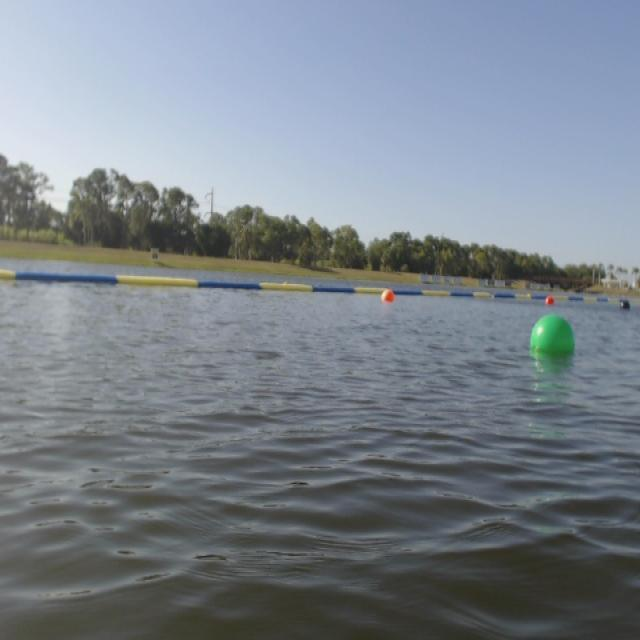Black_Buoy: (620, 298, 633, 310)
Green_Buoy: (534, 306, 570, 364)
Orange__Buoy: (382, 287, 390, 304), (546, 296, 553, 306)
